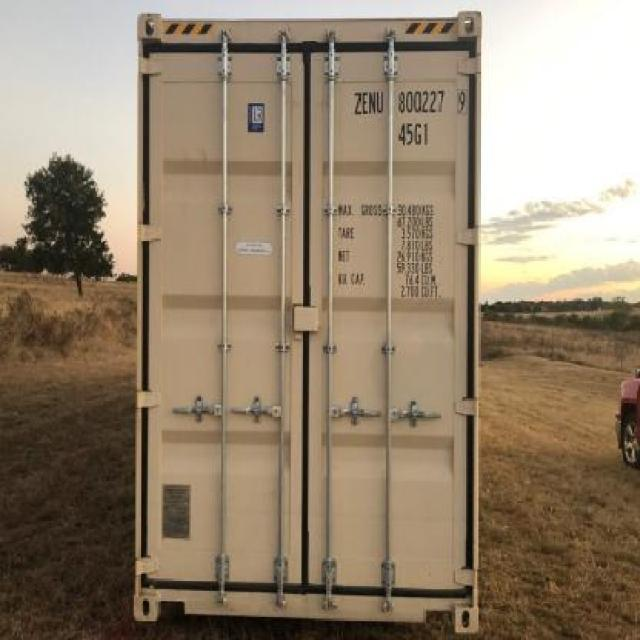ISO: (398, 120, 431, 145)
container_number: (351, 88, 464, 115)
